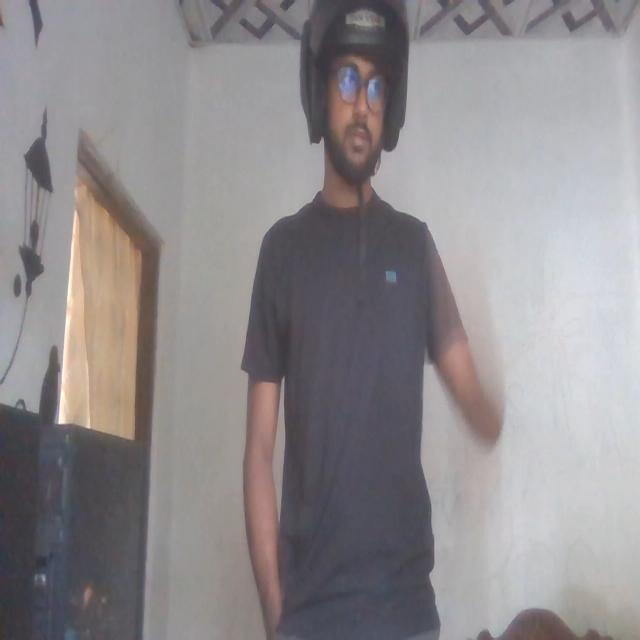Helmet_Wearer: (298, 0, 407, 204)
Person: (226, 0, 489, 640)
